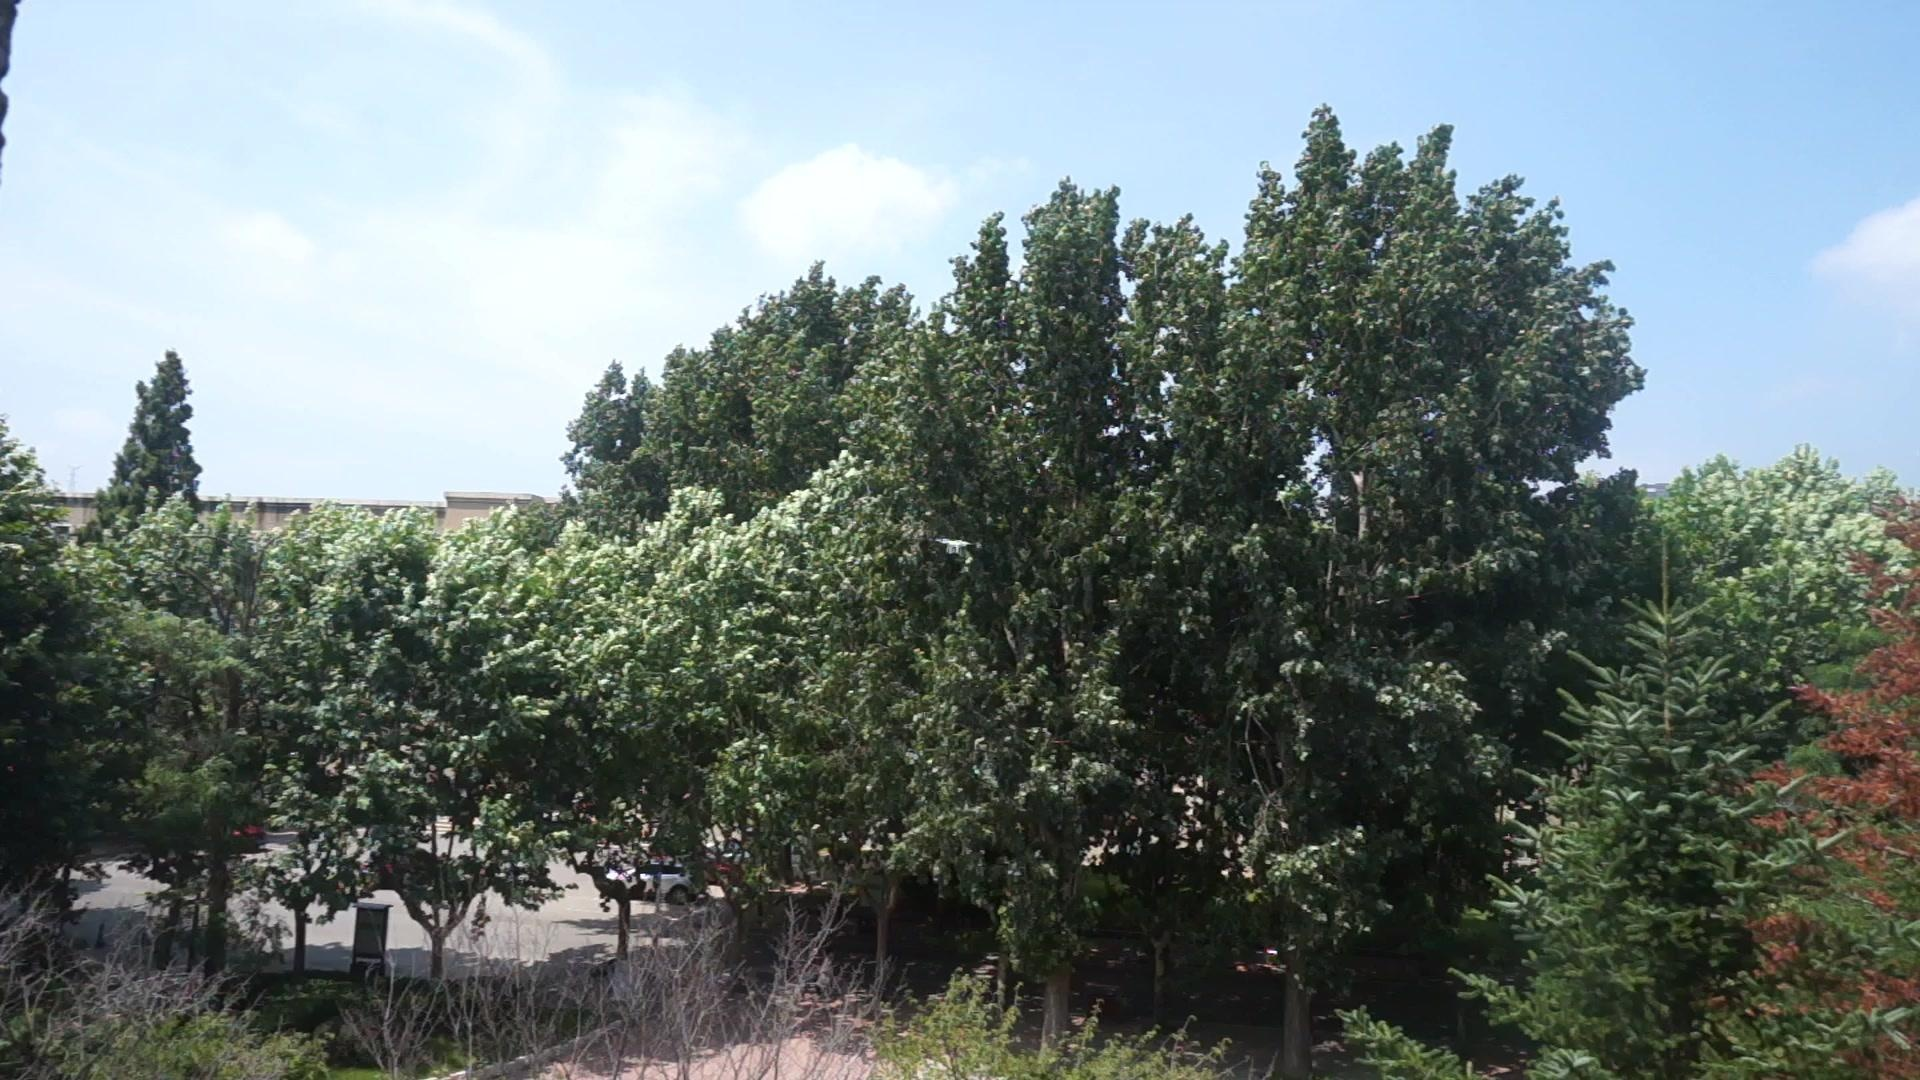UAV: (934, 539, 972, 555)
